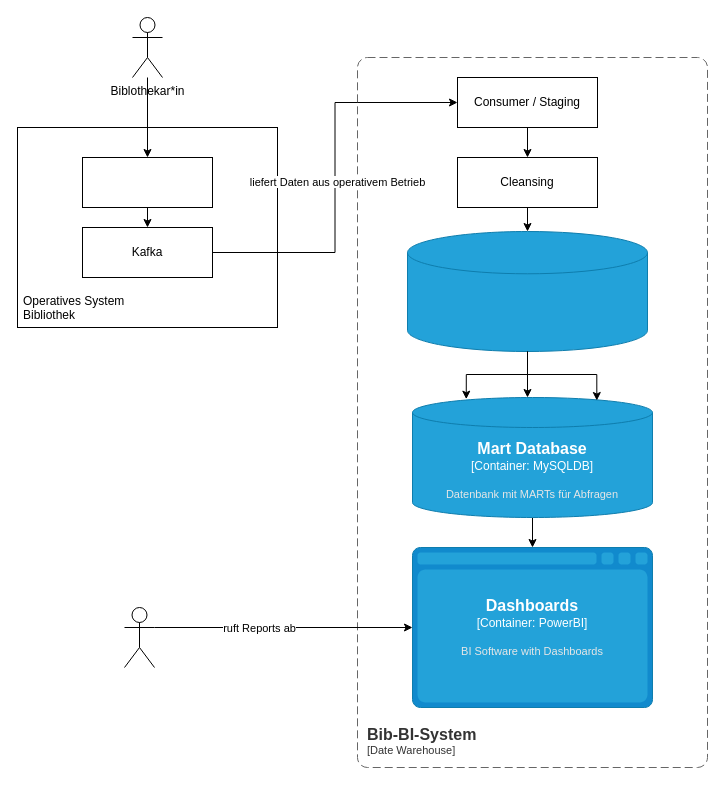
Image size: 725x785. Some labels were removed from this diagram. The shapes that lost their labels are listed below. From the top down, each one's centre as x and y in pixels, then its label:
At point 147,182: "Operative Datenquelle".
At point 527,291: "Core [Container: MySQL-DB] Historisierter Speicher aller Daten".
At point 139,637: "Bib-Verwaltung".
